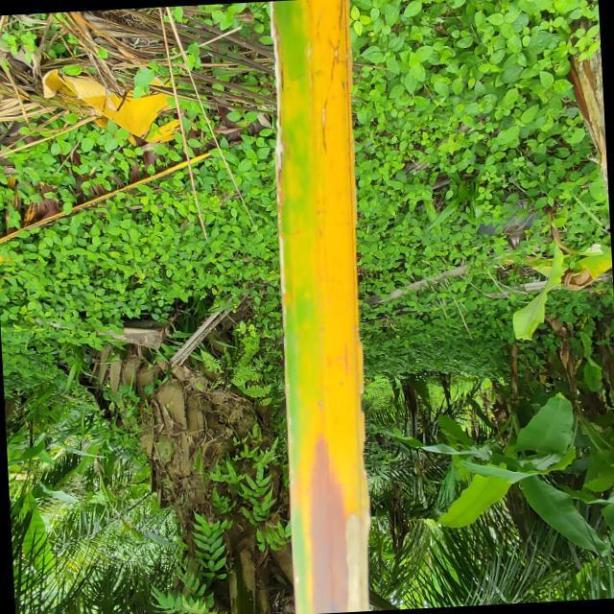Megnesium: (270, 0, 373, 614)
